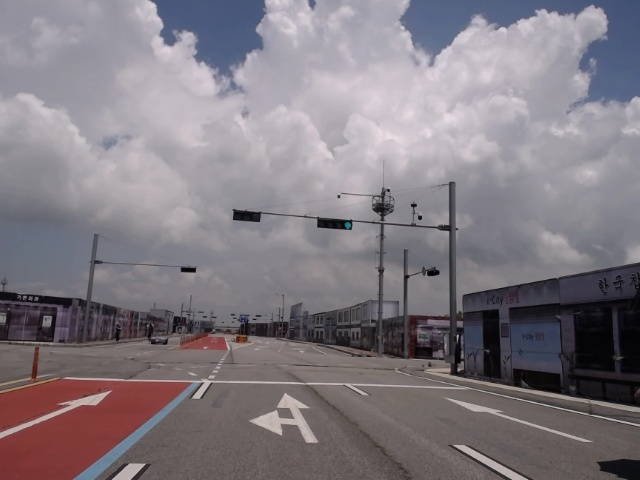straight_green_4: (318, 218, 354, 230)
